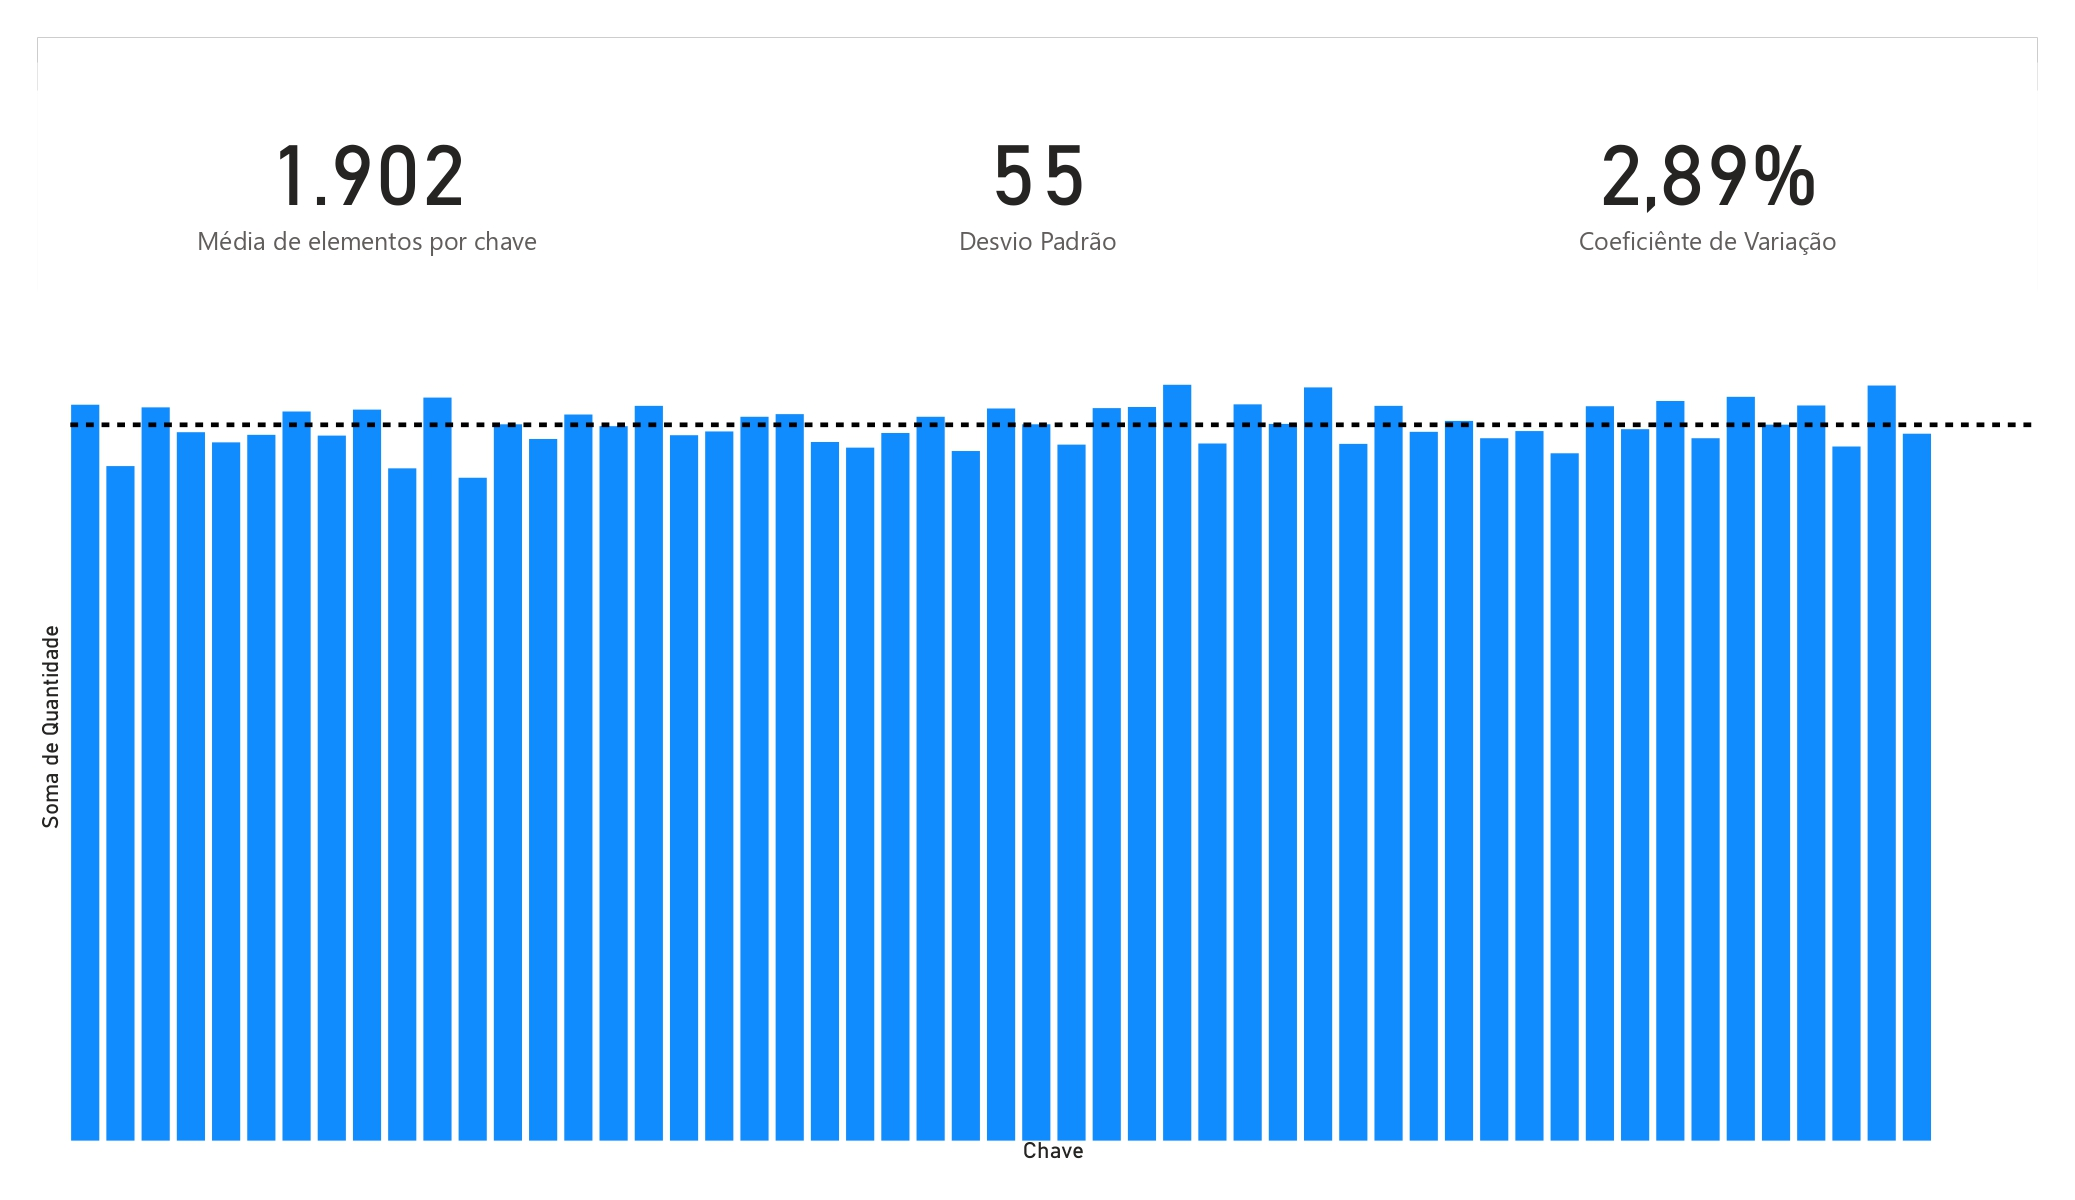

The page's visual inventory and layout, read from the dashboard file:
{"tool":"powerbi","page":{"name":"Avaliação função hash","canvas":[1280,720],"ordinal":0},"visuals":[{"type":"clusteredColumnChart","fields":{"Category":["qtd_tabela_hash.Chave"],"Y":["Sum(qtd_tabela_hash.Quantidade)"]},"box":[0,167,1280.2,553],"z":0},{"type":"card","title":"Percentual","fields":{"Values":["qtd_tabela_hash.Coeficiênte de Variação"]},"box":[858.1,15.8,421.9,151.2],"z":1000},{"type":"card","title":"Percentual","fields":{"Values":["qtd_tabela_hash.Média de elementos por chave"]},"box":[0,15.8,421.9,151.2],"z":2001},{"type":"card","title":"Percentual","fields":{"Values":["qtd_tabela_hash.Desvio Padrão"]},"box":[429.1,15.8,421.9,151.2],"z":2002}]}

Visuals, with their boxes in screenshot pixels (x1, y1, x2, y2):
clusteredColumnChart - qtd_tabela_hash.Chave x Sum(qtd_tabela_hash.Quantidade): [left=38, top=298, right=2038, bottom=1162]
"Percentual" card: [left=1378, top=62, right=2038, bottom=298]
"Percentual" card: [left=38, top=62, right=697, bottom=298]
"Percentual" card: [left=708, top=62, right=1367, bottom=298]
